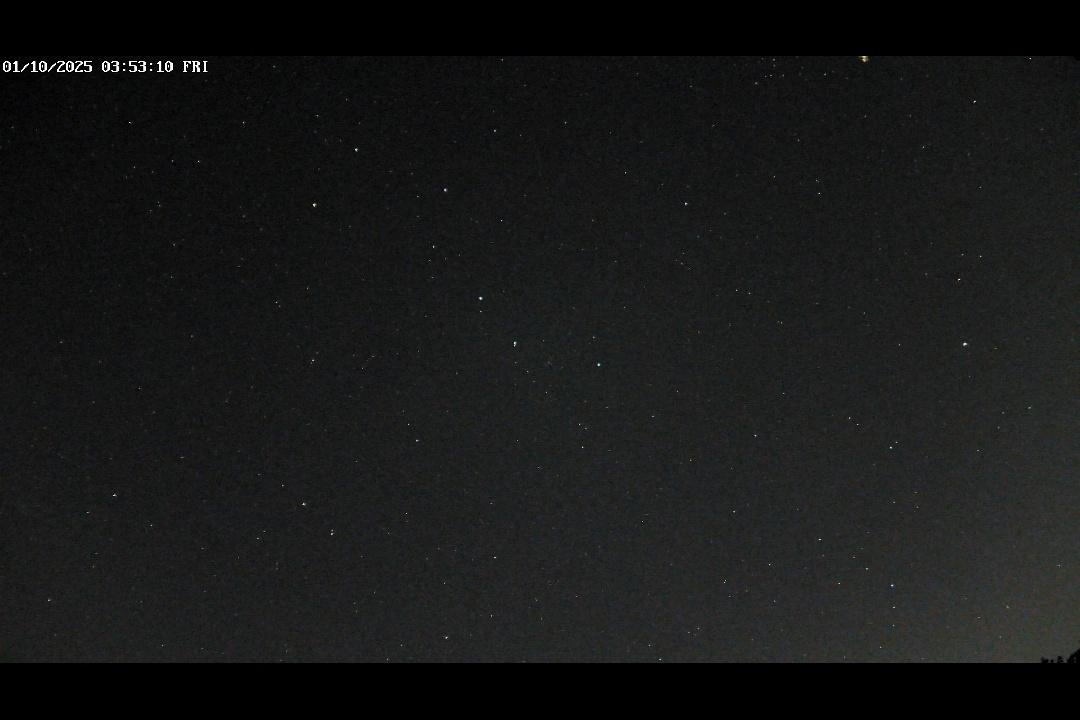Plane: (852, 55, 878, 70)
